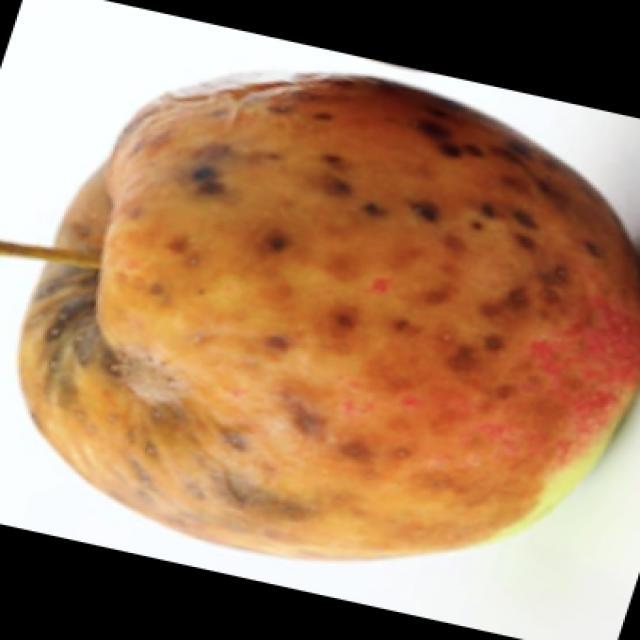Rotten: (68, 82, 630, 573)
